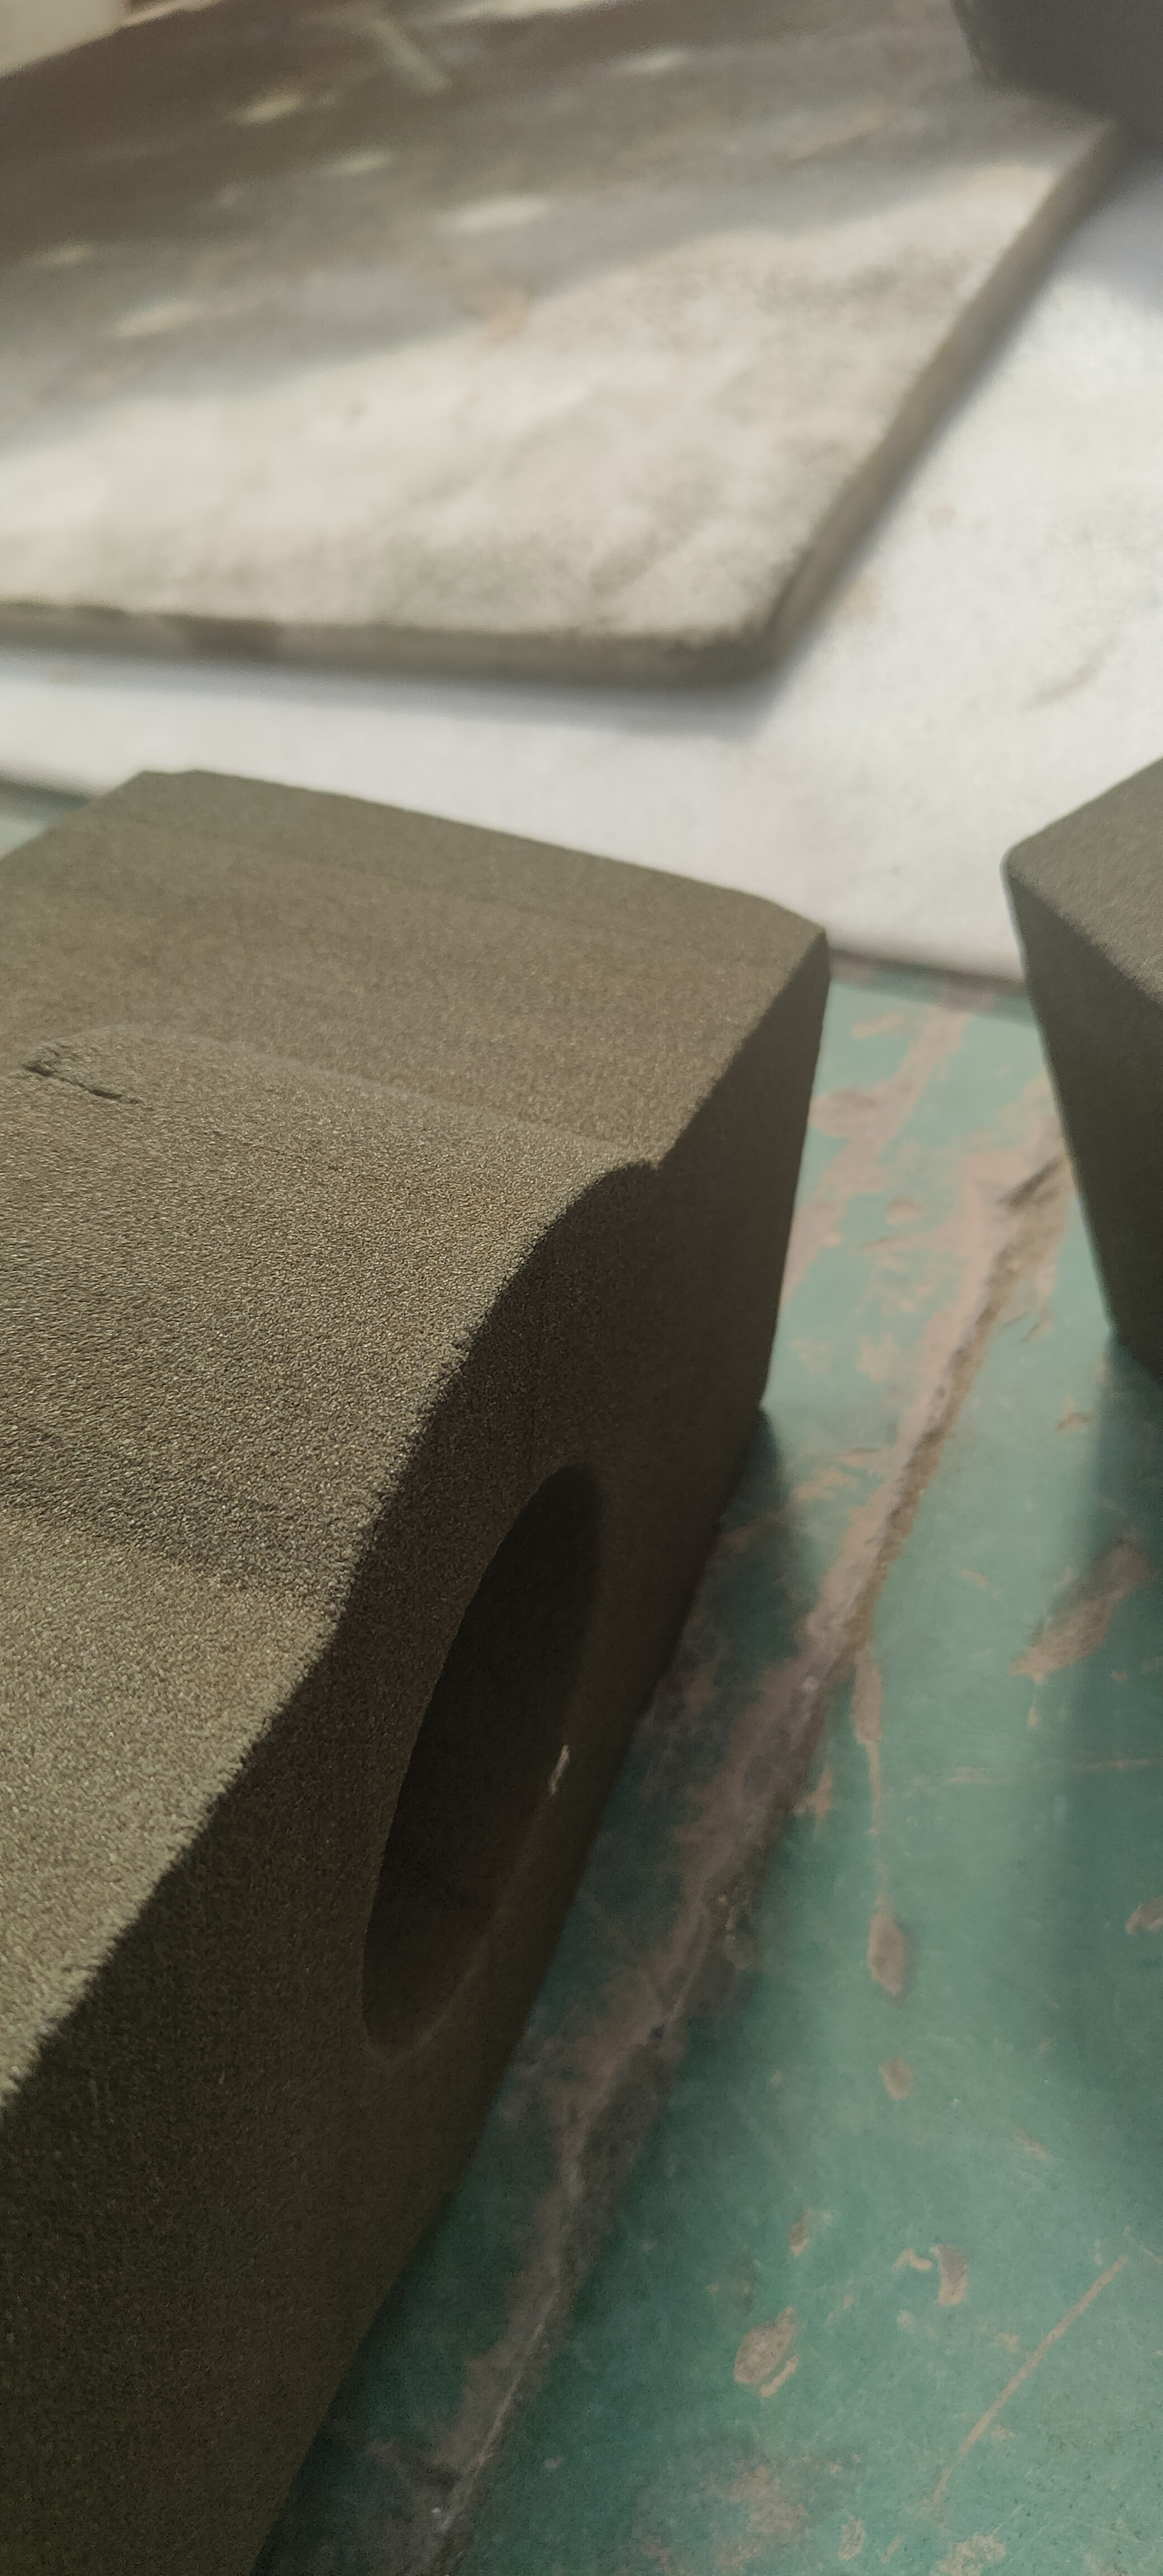pouring hole: (363, 1465, 603, 2060)
